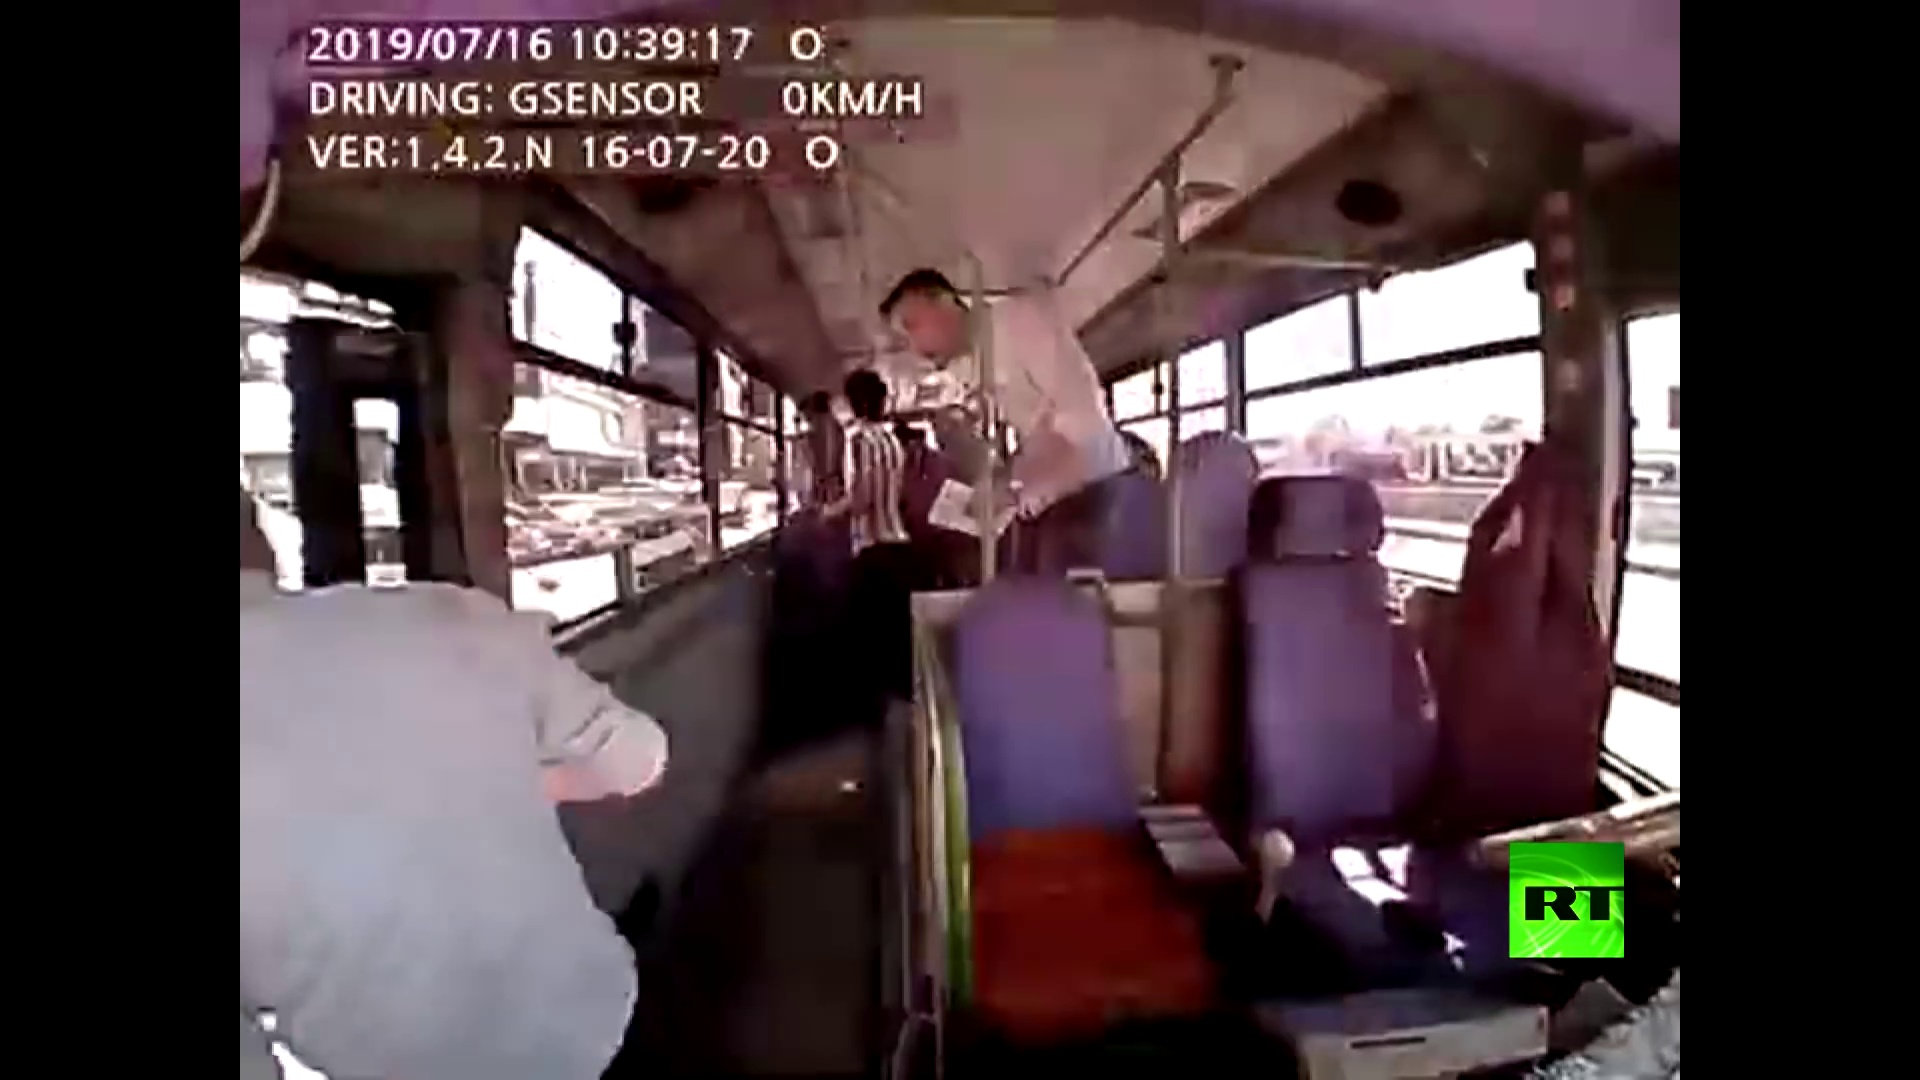face: (892, 280, 948, 367)
